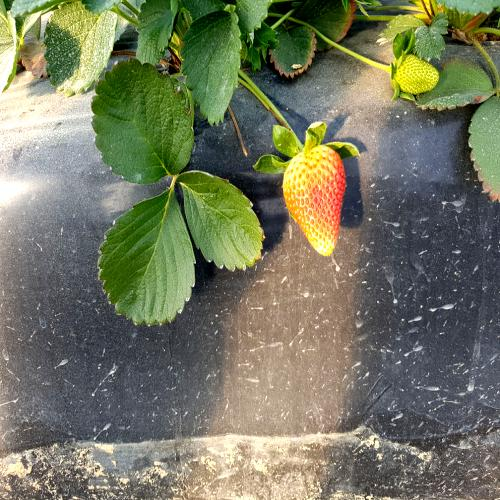partially-ripe: (287, 149, 350, 263)
unripe: (390, 44, 442, 108)
